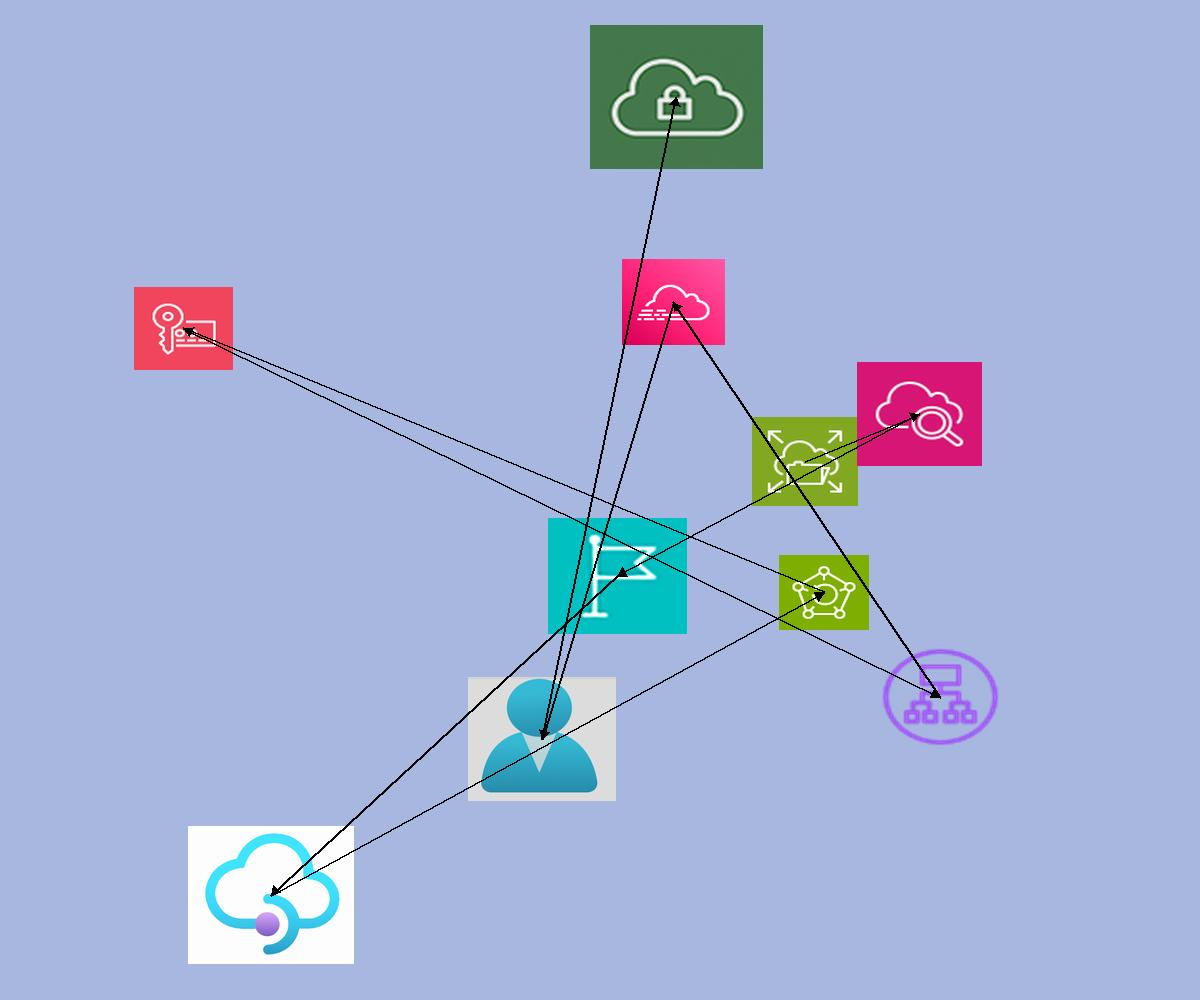AWS-Backup: (779, 555, 869, 630)
AWS-CloudTrail: (622, 259, 725, 345)
AWS-CloudWatch: (857, 362, 982, 466)
AWS-EFS: (752, 417, 858, 506)
AWS-Key-Management-Service: (134, 287, 233, 370)
AWS-Private_vpc: (590, 25, 763, 169)
AWS-Region: (548, 518, 687, 634)
AWS-Res_Elastic-Load-Balancing_Application-Load-Balancer: (878, 645, 1003, 749)
Azure_api_gateway: (188, 826, 354, 964)
Azure_users: (468, 677, 616, 801)
